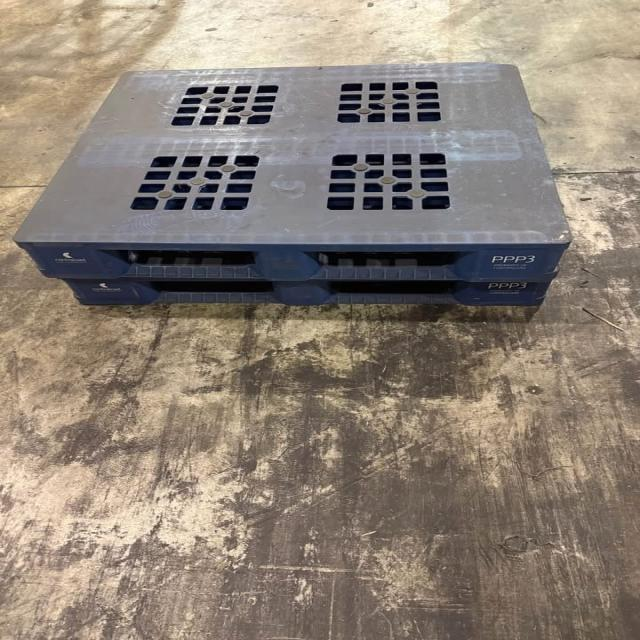non-igps: (10, 59, 577, 309)
